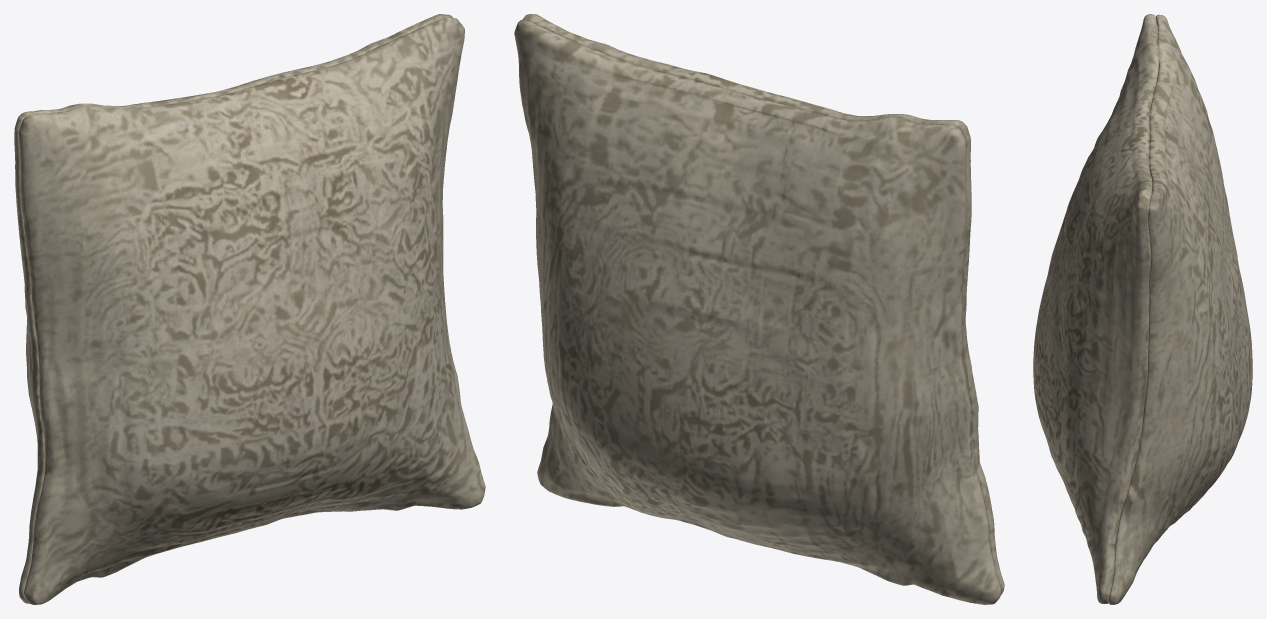
Rendered from B074VKVNQX.glb.
3 renders of one model, left to right at view 1: azimuth 30°, elevation 25°; view 2: azimuth 150°, elevation 25°; view 3: azimuth 270°, elevation 25°, orthographic. The views are drawn at different scales.
Visible parts, largest first — view 1: geometry_0; view 2: geometry_0; view 3: geometry_0.
Boxes of the visible parts, x1,y1,x2,y2 form: geometry_0: (14,14,485,604); geometry_0: (514,14,1004,604); geometry_0: (1033,14,1252,604).
Size of the model in its own units: 1 by 0.9986 by 0.4793.
1 material, 1 textured.
